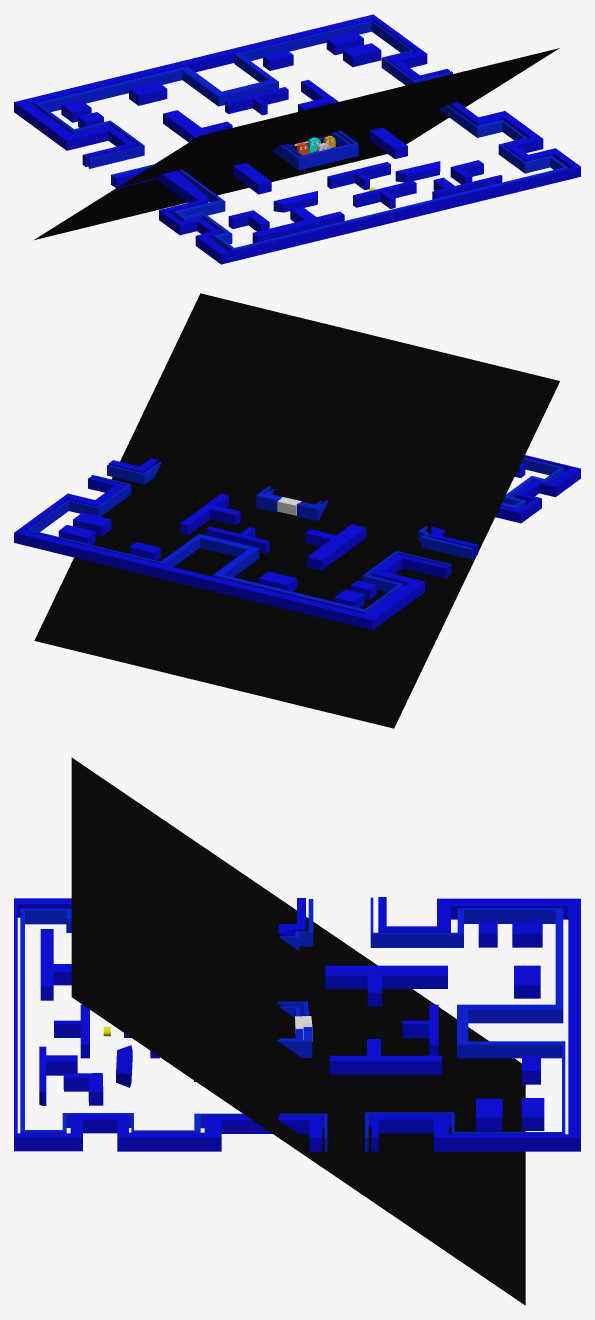
File: Maze.fbx
3 renders of one model, top to bottom at view 1: azimuth 30°, elevation 25°; view 2: azimuth 150°, elevation 25°; view 3: azimuth 270°, elevation 25°, orthographic. The views are drawn at different scales.
Visible parts, largest first — view 1: MazeFloor, Cube, Cube.003, Cube.001, Cube.002, Cube.023, Cube.014, Cube.010, Cube.011, Cube.015, Cube.016, Cube.024 (+12 smaller); view 2: MazeFloor, Cube.001, Cube.003, Cube, Cube.002, Cube.010, Cube.012, Cube.014, Cube.011, Cube.008; view 3: MazeFloor, Cube.001, Cube.003, Cube, Cube.002, Cube.010, Cube.012, Cube.023, Cube.024, Cube.011, Cube.016, Cube.020 (+5 smaller).
Boxes of the visible parts, left/top/right/bottom form: MazeFloor: left=34, top=48, right=559, bottom=239; Cube: left=113, top=102, right=580, bottom=264; Cube.003: left=35, top=20, right=452, bottom=168; Cube.001: left=14, top=14, right=449, bottom=166; Cube.002: left=111, top=105, right=568, bottom=251; Cube.023: left=252, top=206, right=344, bottom=243; Cube.014: left=272, top=130, right=358, bottom=170; Cube.010: left=163, top=110, right=232, bottom=142; Cube.011: left=225, top=87, right=288, bottom=115; Cube.015: left=327, top=162, right=390, bottom=190; Cube.016: left=353, top=180, right=416, bottom=208; Cube.024: left=432, top=175, right=502, bottom=199; MazeFloor: left=34, top=293, right=559, bottom=728; Cube.001: left=14, top=477, right=449, bottom=630; Cube.003: left=26, top=475, right=451, bottom=613; Cube: left=108, top=455, right=580, bottom=556; Cube.002: left=107, top=457, right=564, bottom=559; Cube.010: left=305, top=524, right=366, bottom=570; Cube.012: left=180, top=493, right=240, bottom=535; Cube.014: left=256, top=486, right=328, bottom=520; Cube.011: left=206, top=526, right=269, bottom=553; Cube.008: left=73, top=512, right=111, bottom=536; MazeFloor: left=71, top=757, right=525, bottom=1305; Cube.001: left=371, top=897, right=580, bottom=1151; Cube.003: left=365, top=897, right=565, bottom=1151; Cube: left=14, top=898, right=322, bottom=1151; Cube.002: left=20, top=899, right=327, bottom=1152; Cube.010: left=325, top=965, right=447, bottom=1006; Cube.012: left=329, top=1039, right=442, bottom=1074; Cube.023: left=40, top=929, right=71, bottom=1000; Cube.024: left=39, top=1046, right=77, bottom=1105; Cube.011: left=402, top=1004, right=438, bottom=1055; Cube.016: left=54, top=1004, right=89, bottom=1058; Cube.020: left=63, top=1073, right=103, bottom=1105.
Bounding box in the file's own units: 301 × 300 × 180.
